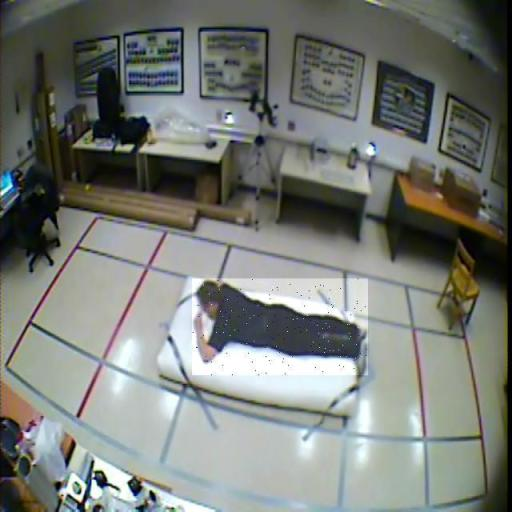Fall: (192, 279, 368, 376)
